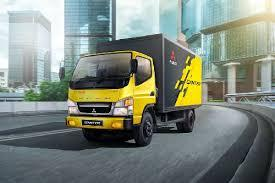truck: (57, 43, 166, 148)
